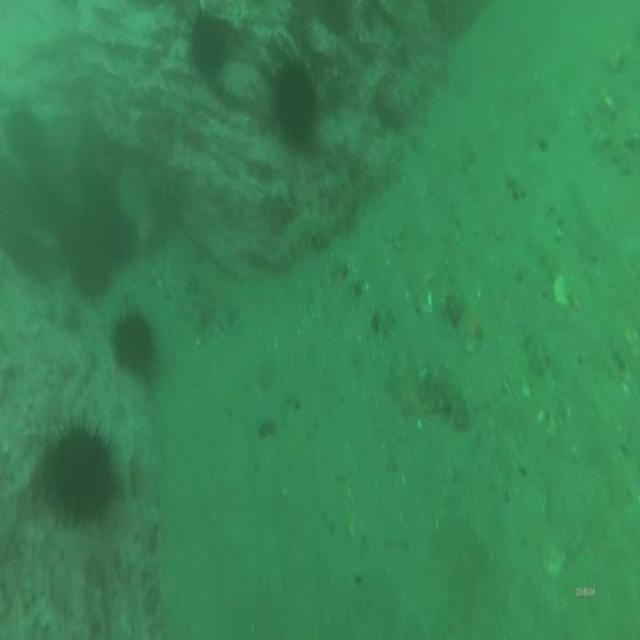echinus: (39, 419, 121, 529), (268, 54, 322, 156), (186, 11, 233, 87), (107, 310, 157, 378), (69, 226, 111, 300), (5, 100, 44, 172), (98, 206, 138, 276)
holothurian: (270, 202, 335, 278), (415, 360, 476, 433), (382, 48, 439, 120), (351, 126, 404, 202)
